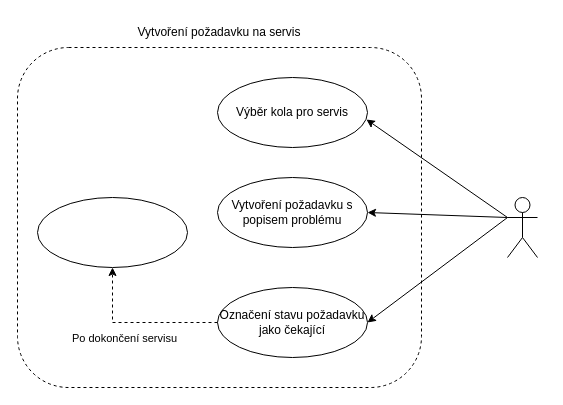
This 563x405 diagram has some shape labels left out. The shapes that lost their labels are listed below. From the top down, each one's centre as x and y in pixels, then its label:
At pixel 112 232: "Aktualizace stavu kola na dostupné".
At pixel 522 227: "Manažer".
